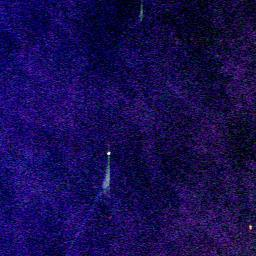Ship: (103, 147, 115, 160), (246, 222, 255, 231)
